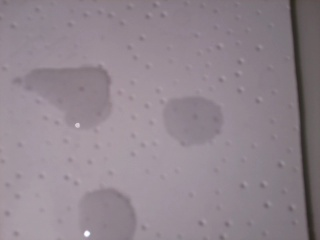Water_detected: (36, 71, 109, 122), (87, 193, 137, 238), (165, 99, 215, 141)
